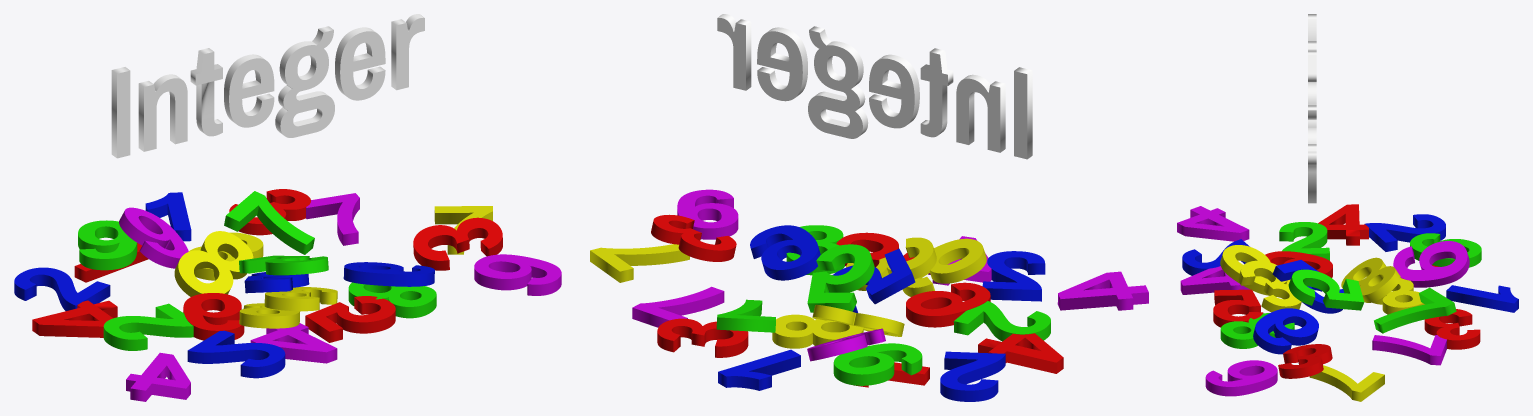
The model's file is Integer.glb.
3 renders of one model, left to right at view 1: azimuth 30°, elevation 25°; view 2: azimuth 150°, elevation 25°; view 3: azimuth 270°, elevation 25°, orthographic. The views are drawn at different scales.
Parts seen in each view (by area): view 1: Text.013; view 2: Text.013; view 3: Text.013.
Part boxes in pixels (left/top/right/bottom): Text.013: left=14, top=14, right=561, bottom=401; Text.013: left=590, top=14, right=1148, bottom=401; Text.013: left=1177, top=14, right=1518, bottom=401.
Bounding box in the file's own units: 3 × 1.71 × 2.3.
